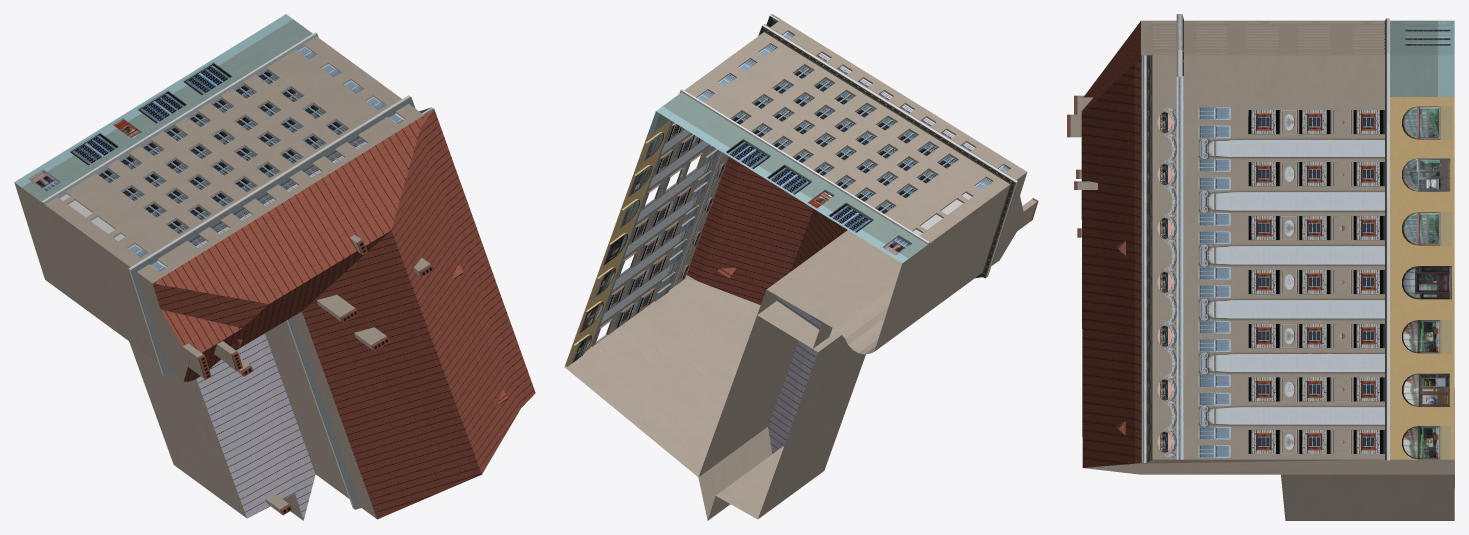
File: Vabaduse_valjak_2b.obj
3 renders of one model, left to right at view 1: azimuth 30°, elevation 25°; view 2: azimuth 150°, elevation 25°; view 3: azimuth 270°, elevation 25°, orthographic. The views are drawn at different scales.
Visible parts, largest first — view 1: Vabaduse_valjak_2b; view 2: Vabaduse_valjak_2b; view 3: Vabaduse_valjak_2b.
Part boxes in pixels (x1=…): Vabaduse_valjak_2b: x1=14, y1=14, x2=535, y2=520; Vabaduse_valjak_2b: x1=564, y1=14, x2=1038, y2=520; Vabaduse_valjak_2b: x1=1067, y1=14, x2=1454, y2=520.
Size of the model in its own units: 36.57 by 39.93 by 27.85.
